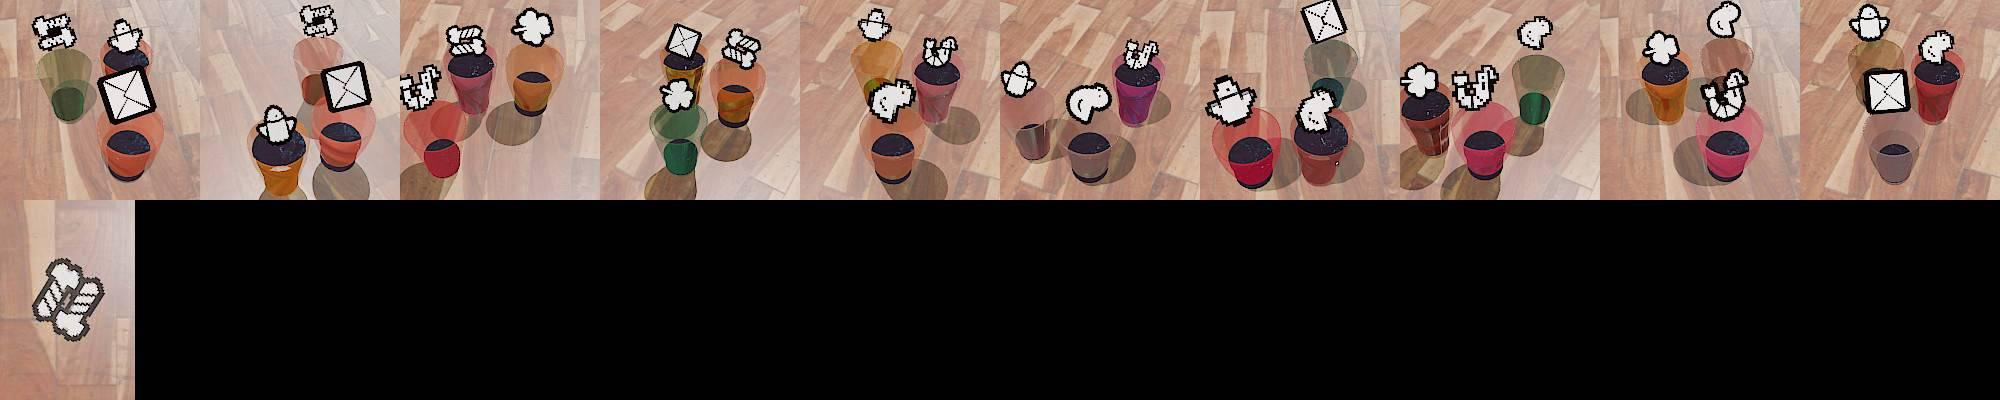icon: (31, 257, 107, 343), (96, 66, 157, 124), (320, 60, 374, 112), (1862, 66, 1913, 117), (1700, 68, 1749, 121), (1207, 74, 1256, 125), (865, 76, 916, 122), (1295, 83, 1341, 134), (1450, 64, 1499, 111), (1301, 0, 1349, 46), (1064, 82, 1111, 125), (399, 65, 443, 111), (719, 28, 763, 69), (511, 6, 555, 47), (32, 13, 77, 52), (258, 103, 298, 145), (663, 23, 705, 64), (1849, 4, 1893, 41), (1642, 29, 1682, 66), (445, 23, 489, 57), (1401, 61, 1439, 99), (999, 60, 1038, 97), (106, 18, 144, 55), (298, 3, 338, 38), (658, 76, 698, 112), (1705, 1, 1741, 39), (1917, 29, 1955, 65), (856, 6, 894, 42), (1517, 15, 1554, 51), (1122, 38, 1159, 73), (921, 36, 958, 69)
